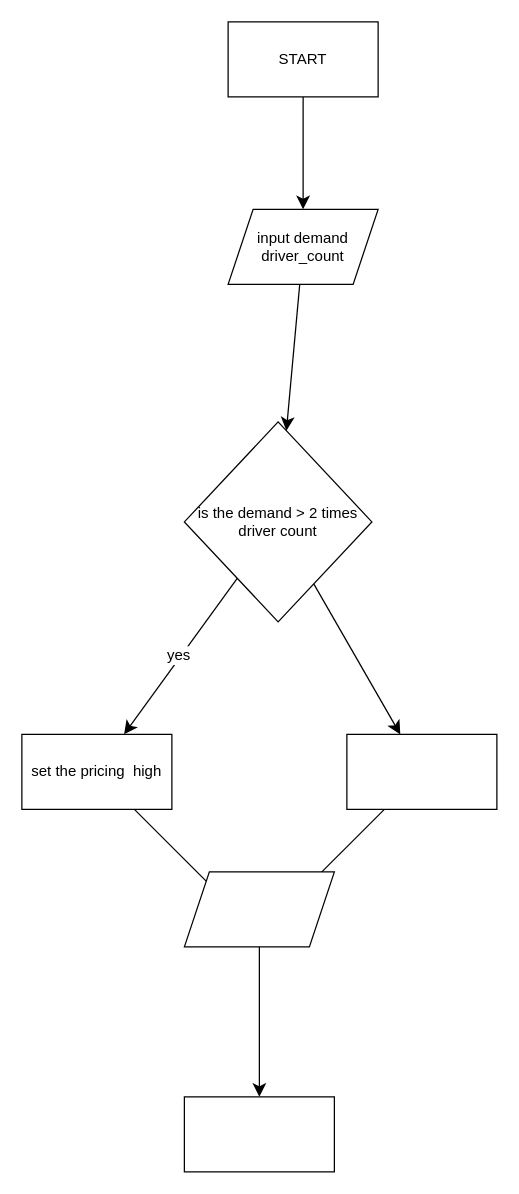
Some shapes in this 519 by 1194 pixel diagram are drawn without their labels. The box of each missing label's shape, as (x1, y1, x2, y2) in pixels:
Output: applied pricing: (183, 871, 334, 947)
set the pricing normal: (346, 733, 497, 809)
